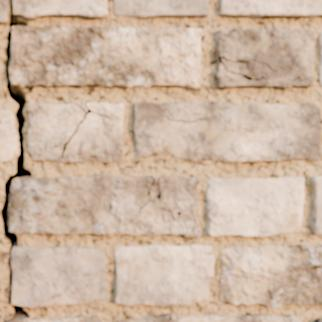brick: (10, 26, 201, 89), (10, 174, 200, 237), (133, 102, 320, 161), (219, 245, 321, 306), (114, 245, 213, 305), (215, 28, 313, 87), (11, 246, 107, 306), (26, 103, 122, 162), (206, 178, 303, 236), (12, 0, 106, 19), (220, 0, 321, 16), (114, 0, 207, 17), (117, 314, 300, 321), (0, 108, 15, 160), (310, 177, 321, 233), (5, 316, 101, 321), (0, 0, 8, 23), (318, 32, 321, 85)
crack: (0, 2, 32, 319), (60, 102, 110, 161), (137, 175, 185, 221), (217, 55, 276, 83)
